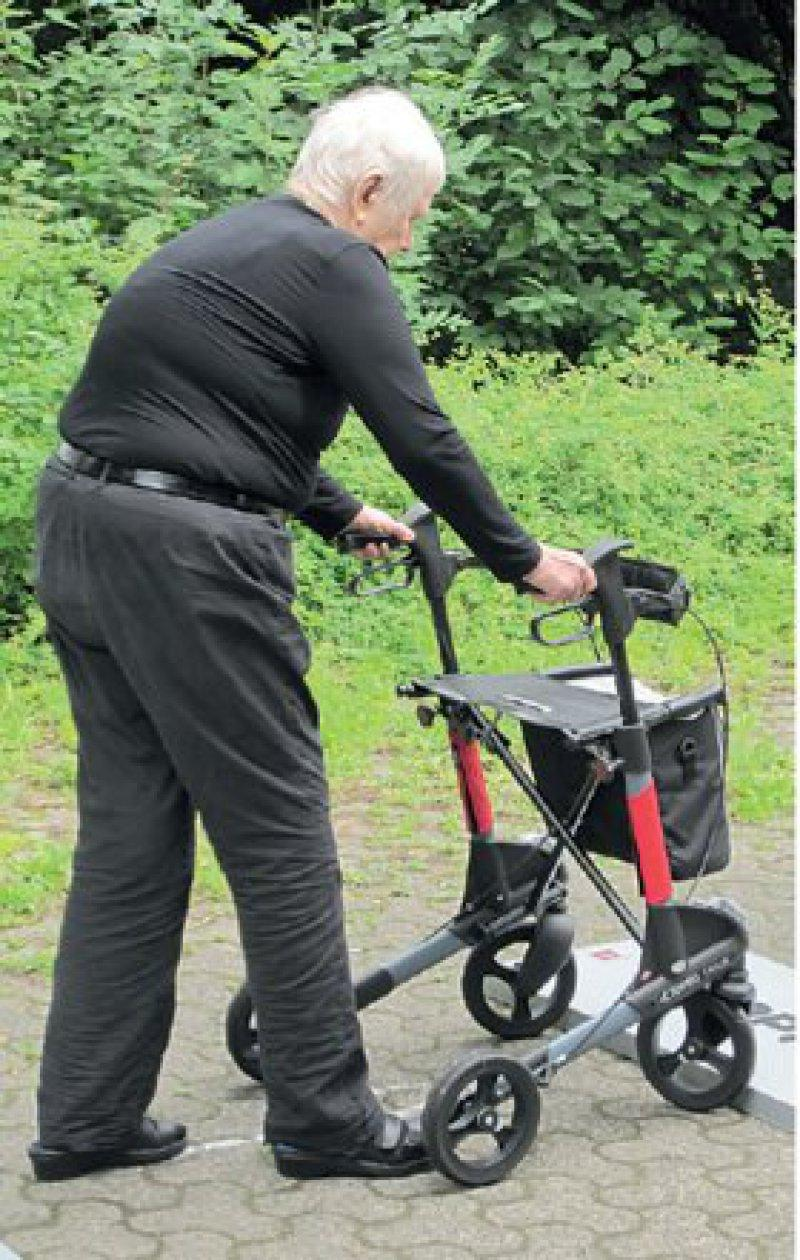walking_frame: (27, 84, 758, 1187)
